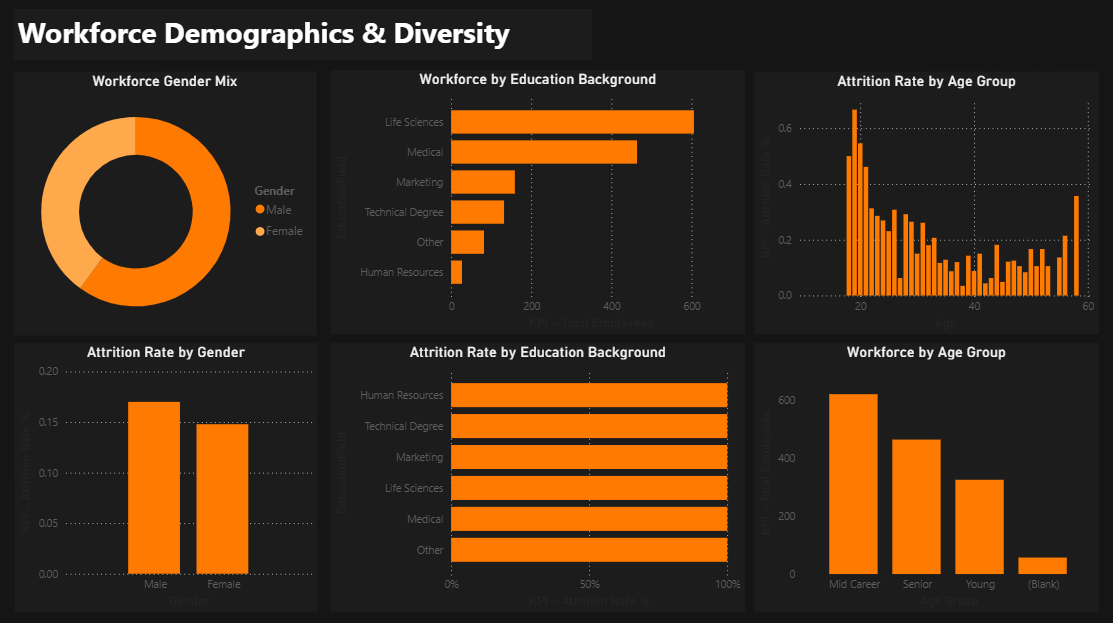

What the dashboard file says about the page in this screenshot:
{"tool":"powerbi","page":{"name":"Workforce Demographics & Diversity","canvas":[1280,720],"ordinal":2},"visuals":[{"type":"donutChart","title":"Workforce Gender Mix","fields":{"Category":["WA_Fn-UseC_-HR-Employee-Attrition.Gender"],"Y":["WA_Fn-UseC_-HR-Employee-Attrition.KPI - Total Employees"]},"box":[19.1,82.9,346.7,301.7],"z":0},{"type":"columnChart","title":"Workforce by Age Group","fields":{"Category":["WA_Fn-UseC_-HR-Employee-Attrition.Age Group"],"Y":["WA_Fn-UseC_-HR-Employee-Attrition.KPI - Total Employees"]},"box":[865.7,393.3,393.3,308.3],"z":1000},{"type":"barChart","title":"Workforce by Education Background","fields":{"Category":["WA_Fn-UseC_-HR-Employee-Attrition.EducationField"],"Y":["WA_Fn-UseC_-HR-Employee-Attrition.KPI - Total Employees"]},"box":[380.7,81.2,473.3,301.7],"z":2000},{"type":"clusteredColumnChart","title":"Attrition Rate by Gender","fields":{"Y":["WA_Fn-UseC_-HR-Employee-Attrition.KPI - Attrition Rate %"],"Category":["WA_Fn-UseC_-HR-Employee-Attrition.Gender"]},"box":[19.7,393.3,346,308],"z":3000},{"type":"clusteredColumnChart","title":"Attrition Rate by Age Group","fields":{"Category":["WA_Fn-UseC_-HR-Employee-Attrition.Age"],"Y":["WA_Fn-UseC_-HR-Employee-Attrition.KPI - Attrition Rate %"]},"box":[865.7,82.9,393.3,300],"z":4000},{"type":"hundredPercentStackedBarChart","title":"Attrition Rate by Education Background","fields":{"Category":["WA_Fn-UseC_-HR-Employee-Attrition.EducationField"],"Y":["WA_Fn-UseC_-HR-Employee-Attrition.KPI - Attrition Rate %"]},"box":[380.7,393.3,473.3,308.3],"z":5000},{"type":"textbox","box":[19.1,11.6,661.7,58.3],"z":6000}]}

Visuals, with their boxes in screenshot pixels (x1, y1, x2, y2), scaled from the page's 1280x720 canvas onto the 1113x623 screenshot:
"Workforce Gender Mix" donutChart: (17, 72, 318, 333)
"Workforce by Age Group" columnChart: (753, 340, 1095, 607)
"Workforce by Education Background" barChart: (331, 70, 743, 331)
"Attrition Rate by Gender" clusteredColumnChart: (17, 340, 318, 607)
"Attrition Rate by Age Group" clusteredColumnChart: (753, 72, 1095, 331)
"Attrition Rate by Education Background" hundredPercentStackedBarChart: (331, 340, 743, 607)
textbox: (17, 10, 592, 60)
